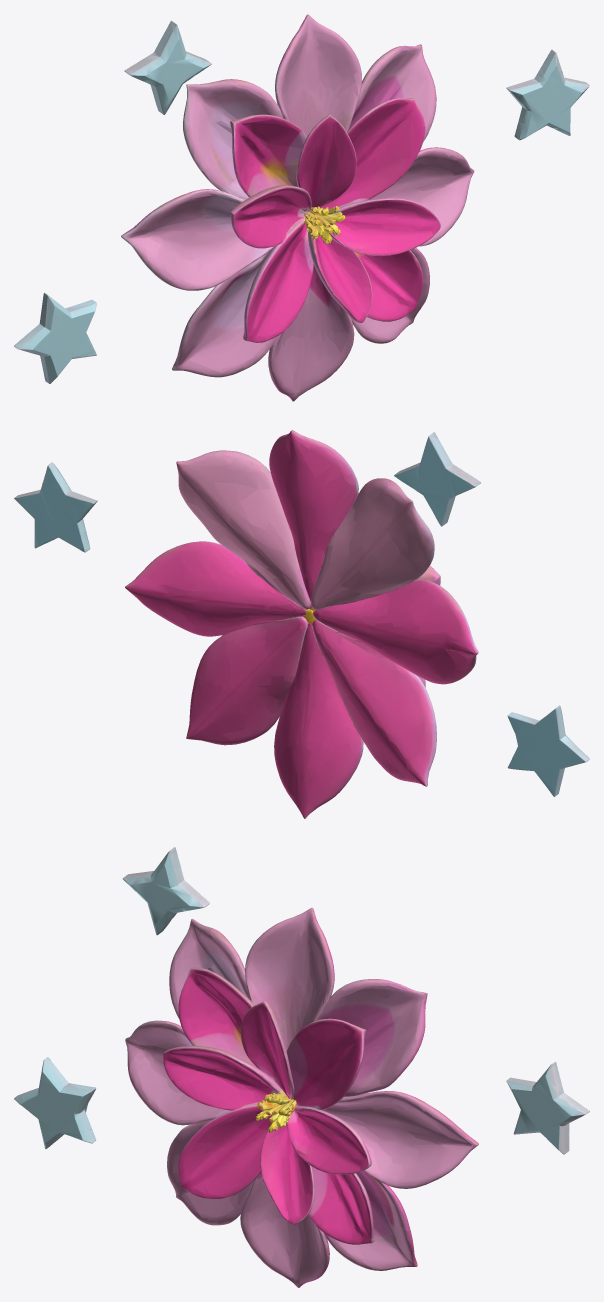
The model's file is petal-sparkle-burst-v1.glb.
3 views of the same model, one above another, from view 1: azimuth 30°, elevation 25°; view 2: azimuth 150°, elevation 25°; view 3: azimuth 330°, elevation 25° (orthographic).
Bounding box in the file's own units: 1.9 × 1.31 × 0.236.
Materials: 1 (1 with a texture image).
